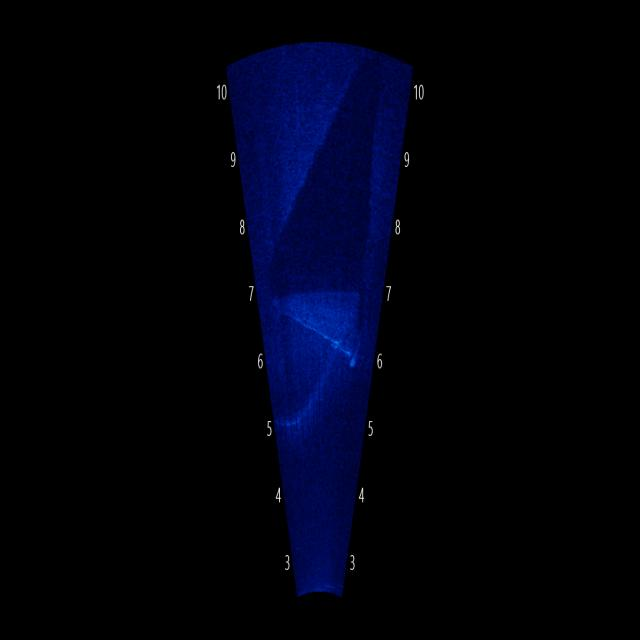triangle: (272, 239, 366, 381)
